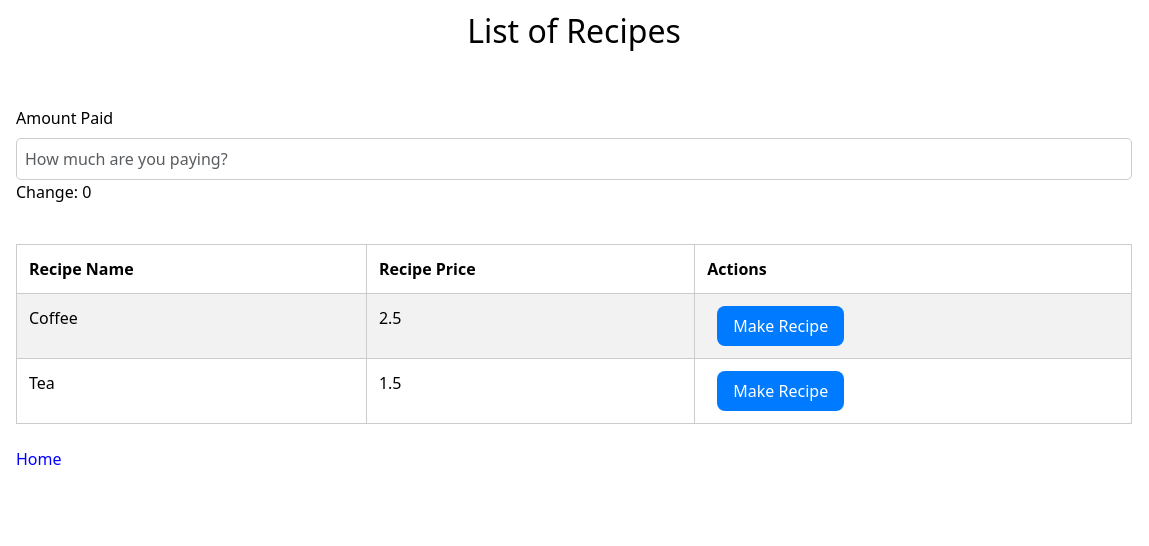
Scenario: ListRecipesComponent › displays error for insufficient funds
The image size is (1149, 546).
Check: the text "Coffee" is shown, box top-left (16, 294), bottom-right (366, 359)
Type "1" into the number field with placeholder "How much are you paying?" at (574, 159), box top-left (16, 138), bottom-right (1132, 180)
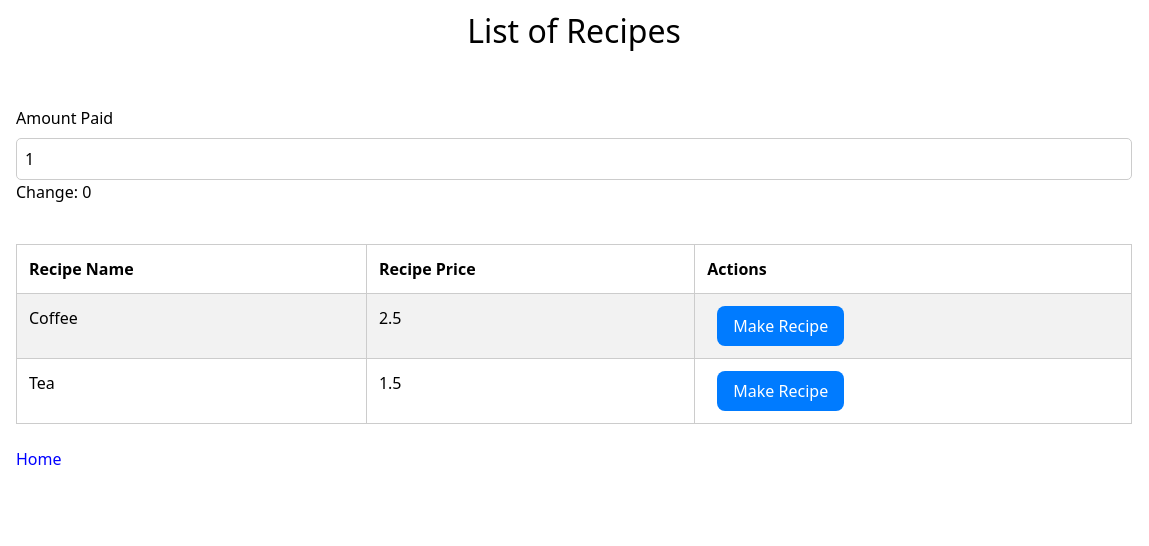
Click the button "Make Recipe" in the row of "Coffee" at (781, 326), box top-left (717, 306), bottom-right (844, 346)
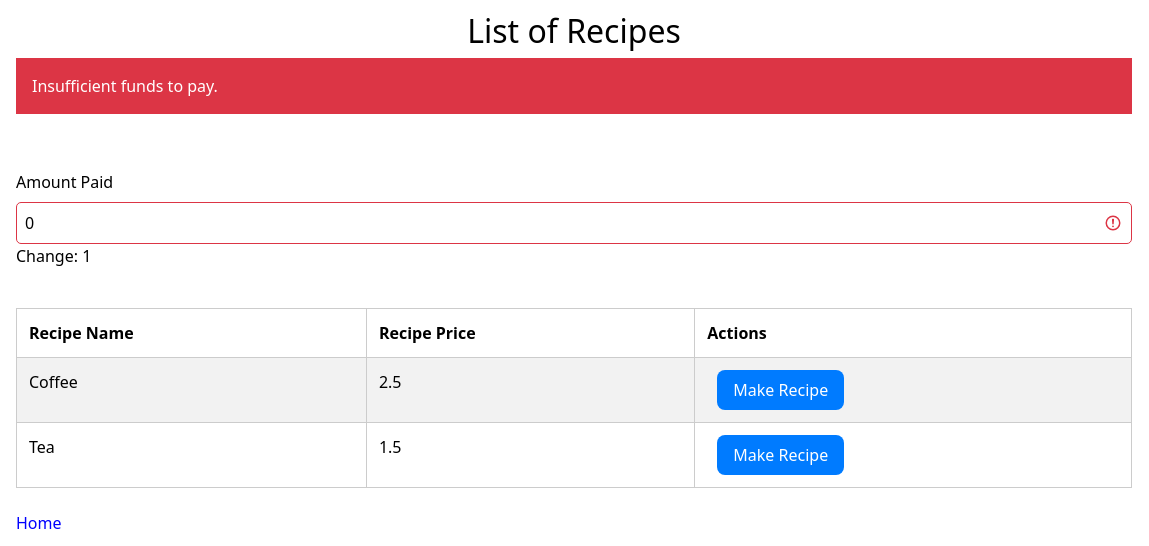
Check: the text "Insufficient funds to pay." is shown, box top-left (16, 58), bottom-right (1132, 114)
Check: the text "Change: 1" is shown, box top-left (16, 244), bottom-right (91, 268)
